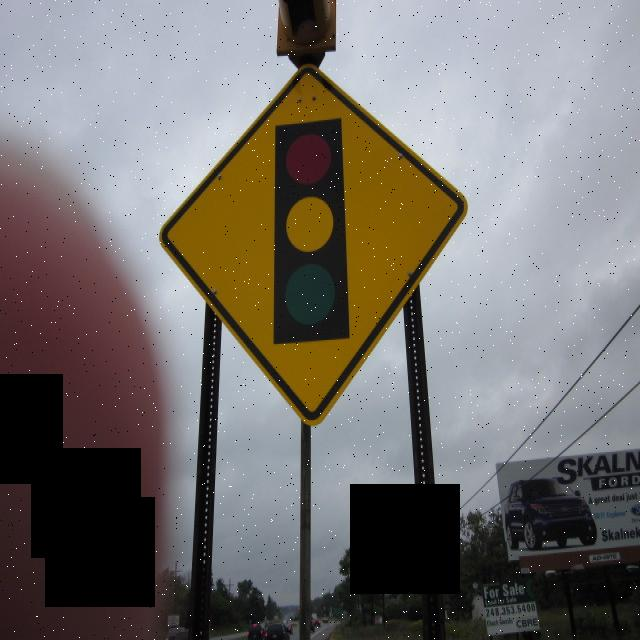warning: (156, 58, 471, 429)
